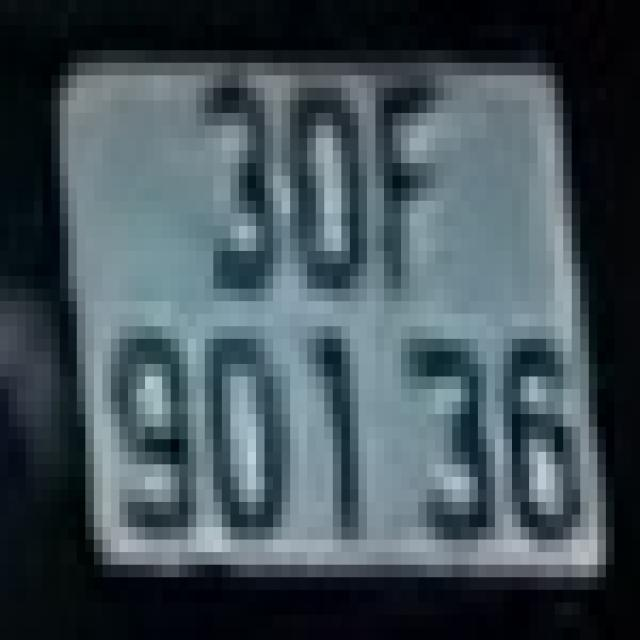0: (204, 326, 290, 540), (290, 75, 367, 289)
1: (307, 326, 367, 540)
3: (401, 326, 495, 540), (196, 75, 282, 301)
6: (504, 326, 580, 540)
9: (102, 326, 196, 540)
F: (376, 75, 452, 289)
